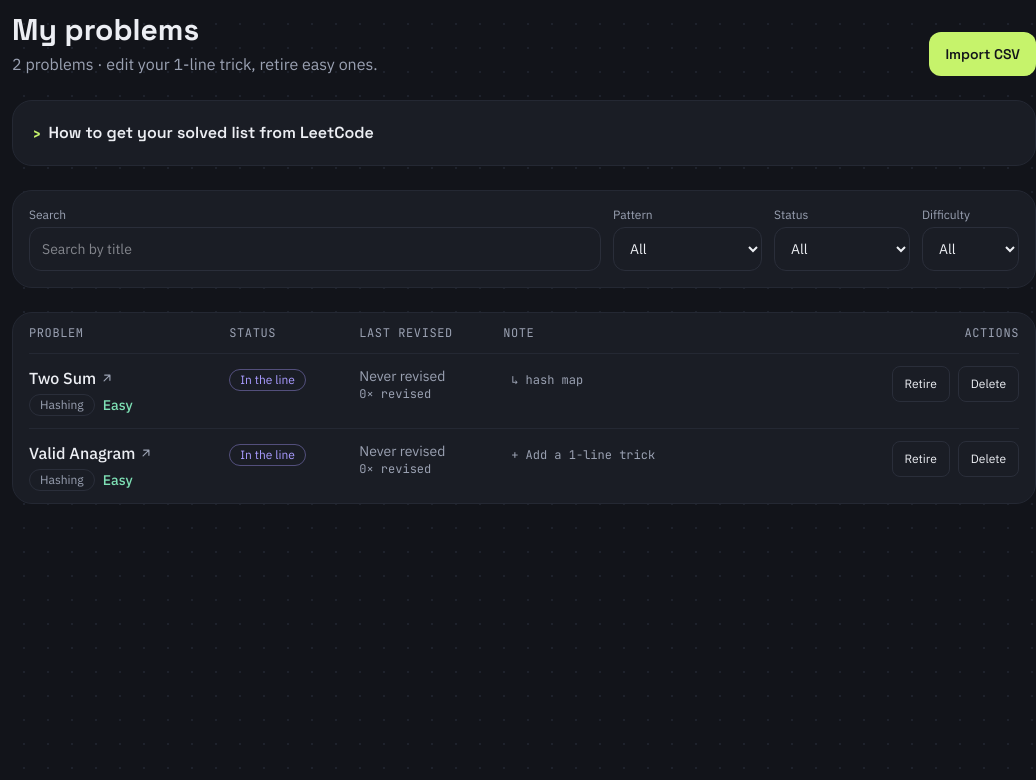
Test case: My problems page › edits a note inline and saves on Enter
Click the button with aria-label "Edit note for Valid Anagram" at (583, 455), box [503,441,820,469]
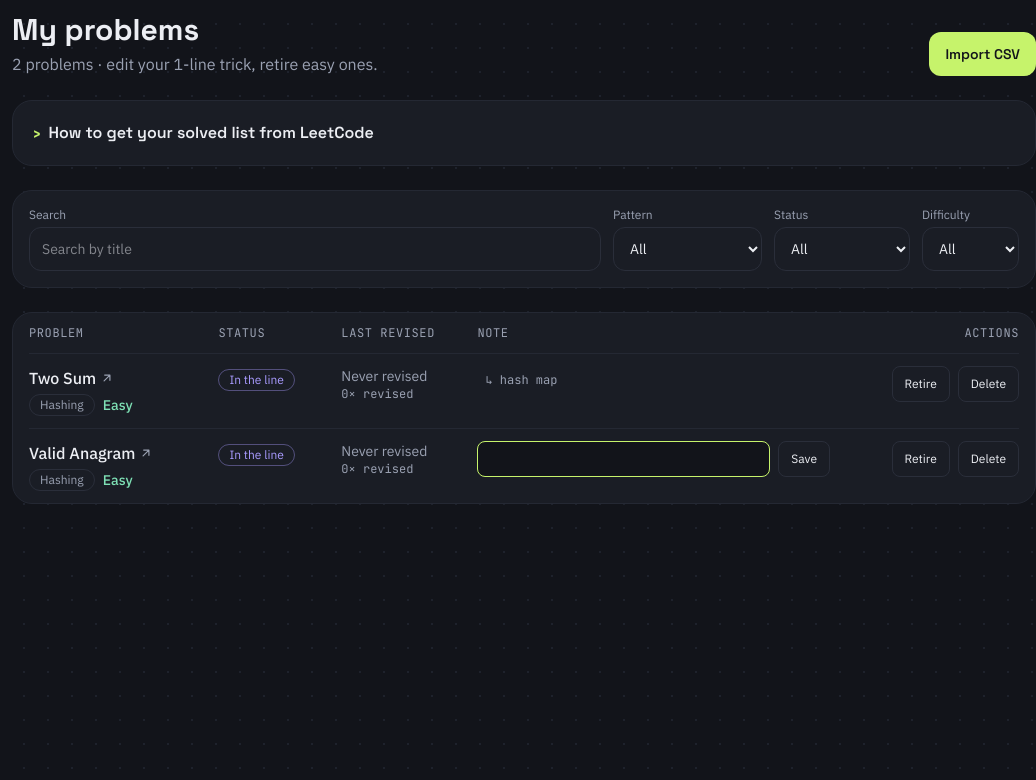
Type "count letters" into the field named "Note for Valid Anagram" at (624, 459), box [477,441,770,477]
Then press Enter
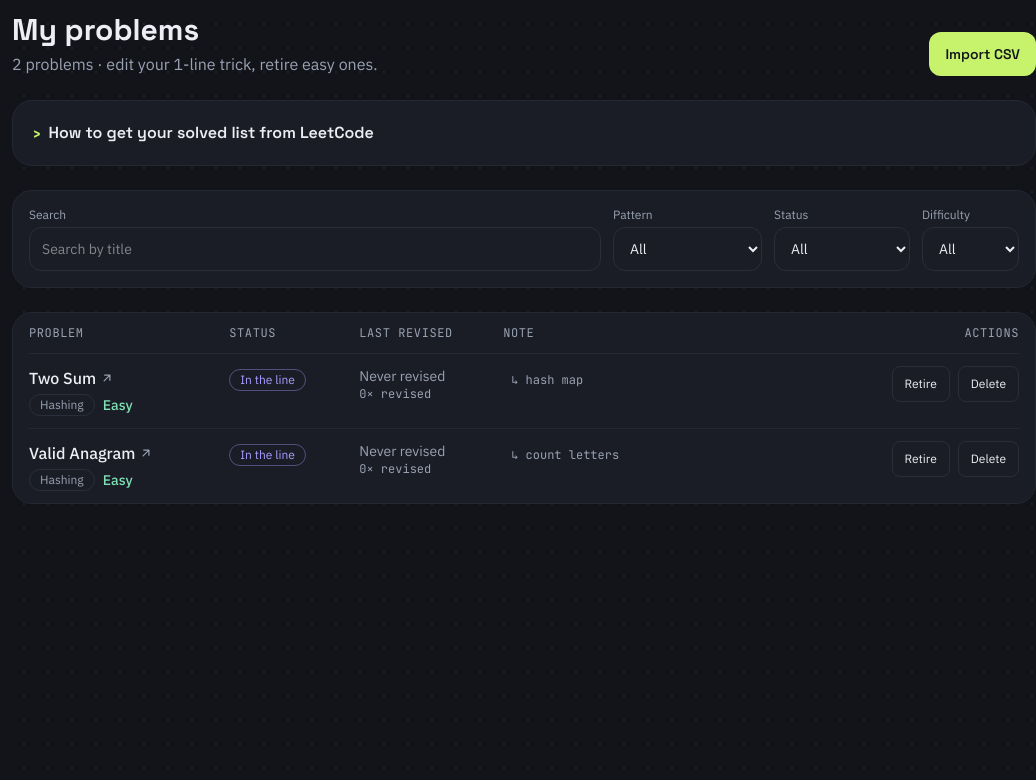
Result: the button "↳ count letters" is shown at [503,441,820,469]
